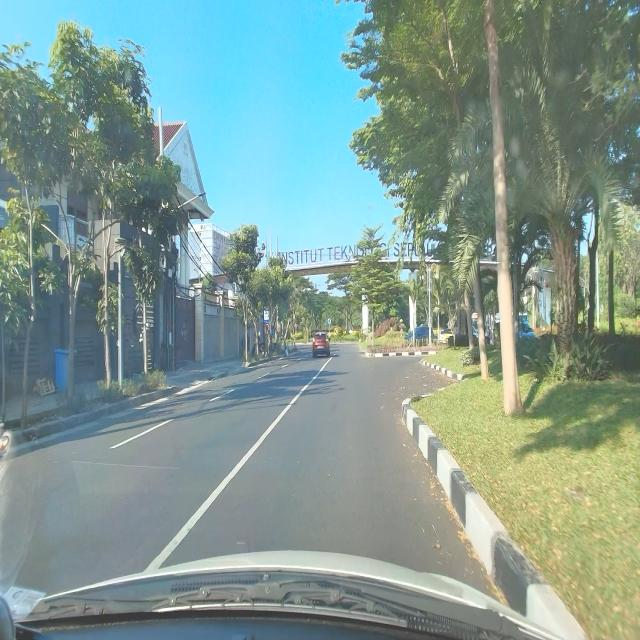car: (312, 332, 331, 358)
